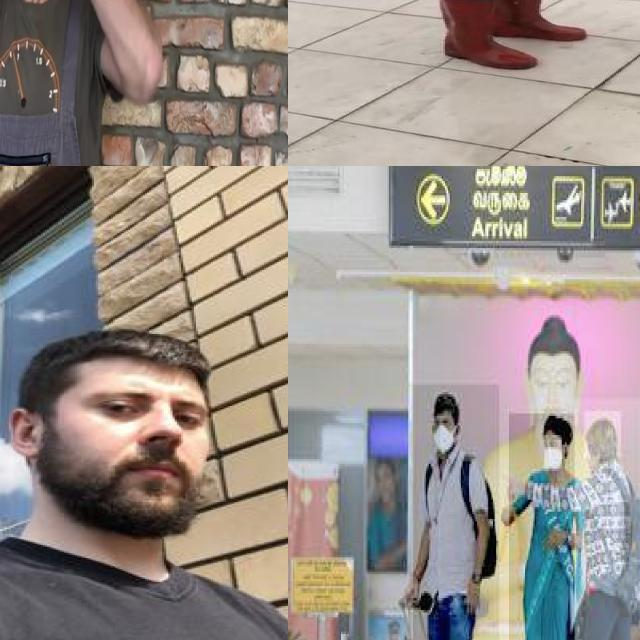No_Ear-Protection: (7, 408, 49, 460)
boots: (434, 0, 539, 70), (493, 0, 589, 42)
face_mask: (432, 413, 456, 452), (544, 435, 562, 469)
face_nomask: (68, 376, 211, 537), (584, 440, 605, 476)
head_nohelmet: (60, 326, 221, 393), (584, 411, 621, 459), (434, 392, 458, 421), (543, 409, 565, 440)
person: (0, 0, 168, 166), (413, 384, 501, 640), (569, 399, 640, 640), (509, 413, 576, 640), (405, 0, 604, 75)
